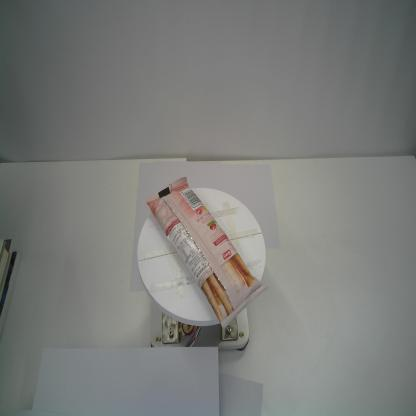Dessert: (144, 175, 271, 332)
